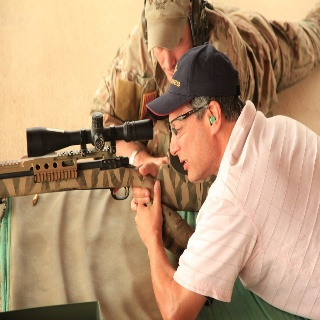rifle: (1, 112, 213, 212)
